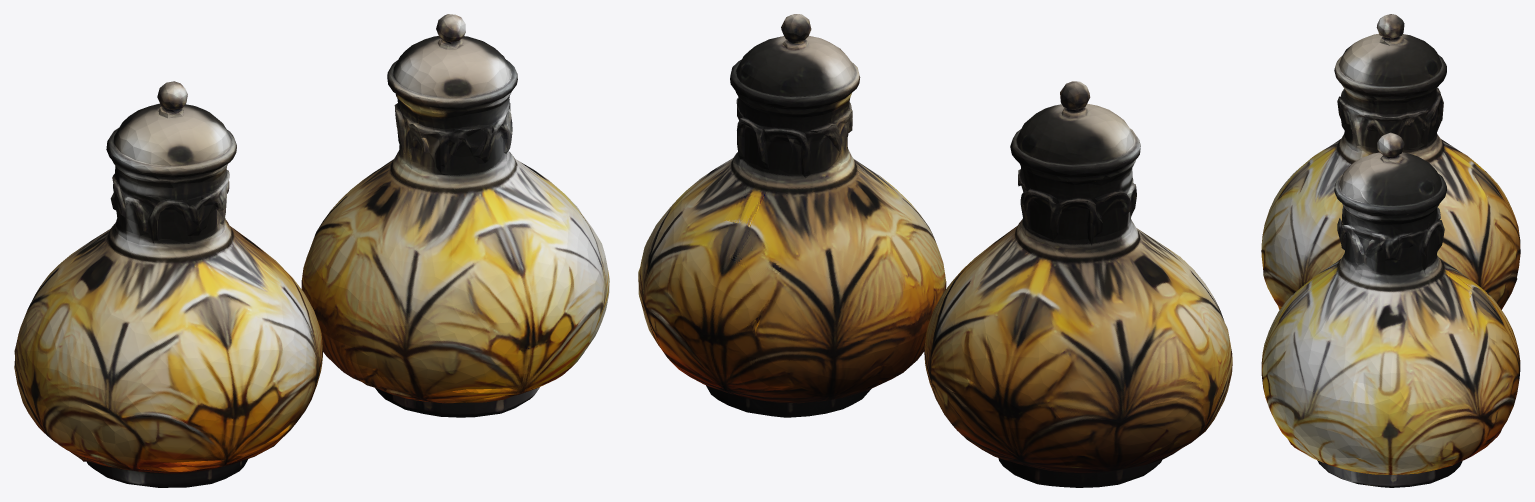
File: seed-shell-salt-and-pepper-shakers-art-deco.jpeg.glb
The picture shows the model from 3 angles, left to right: view 1: azimuth 30°, elevation 25°; view 2: azimuth 150°, elevation 25°; view 3: azimuth 270°, elevation 25°; orthographic projection. The views are drawn at different scales.
Visible parts, largest first — view 1: world; view 2: world; view 3: world.
Boxes of the visible parts, left/top/right/bottom form: world: left=14, top=14, right=609, bottom=487; world: left=638, top=14, right=1232, bottom=487; world: left=1261, top=14, right=1520, bottom=487.
Bounding box in the file's own units: 0.9992 × 0.6356 × 0.4645.
1 material, 1 textured.
